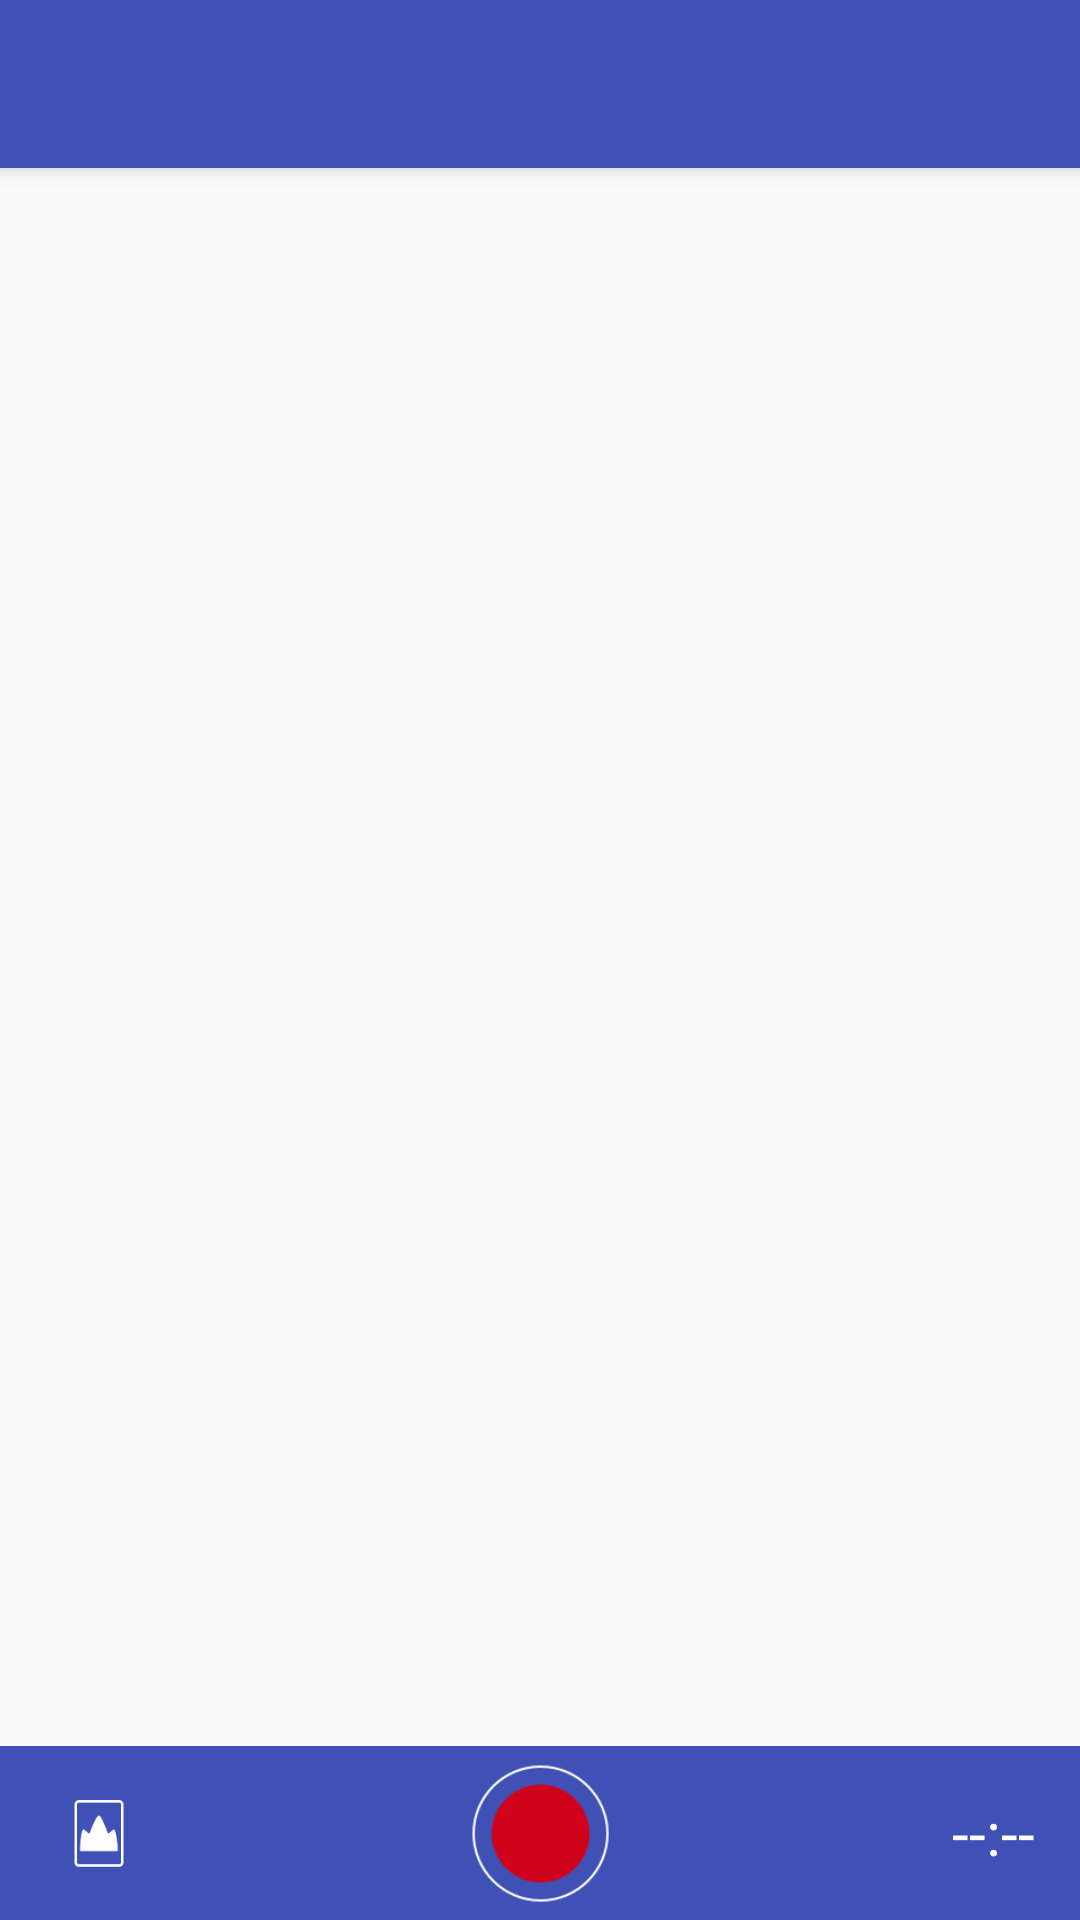

Locate icon controls on the screen. Image size 1080 x 1920, boxes as [x1=x1, y1=y1, x2=x2, y2=y2].
record: [x1=472, y1=1765, x2=609, y2=1902]
